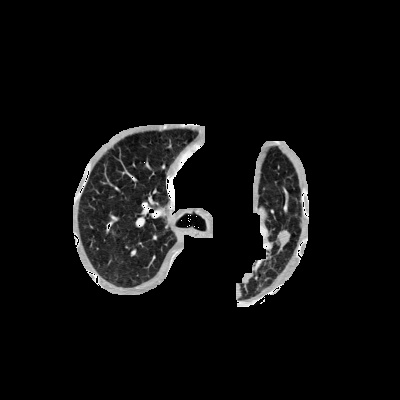PN: (275, 230, 291, 246)
